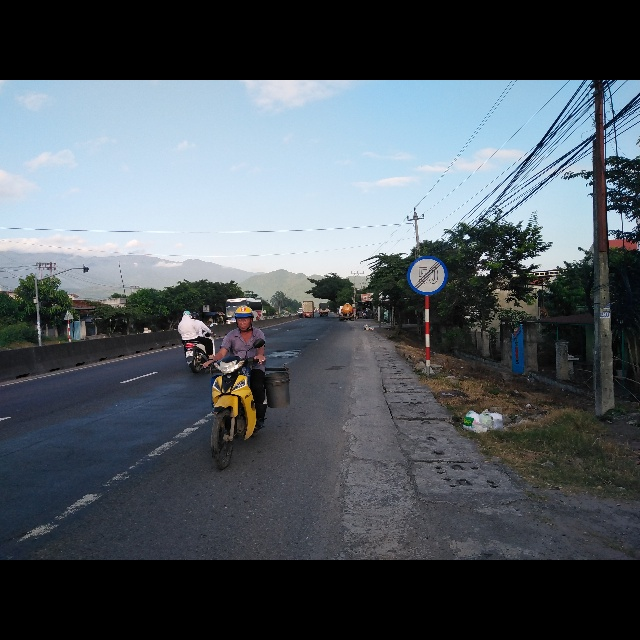Hết hạn chế tốc độ tối đa 50km/h: (407, 255, 448, 294)
